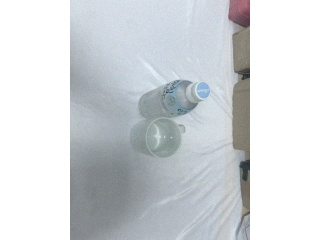bottle: (138, 79, 210, 119)
cup: (130, 117, 185, 158)
